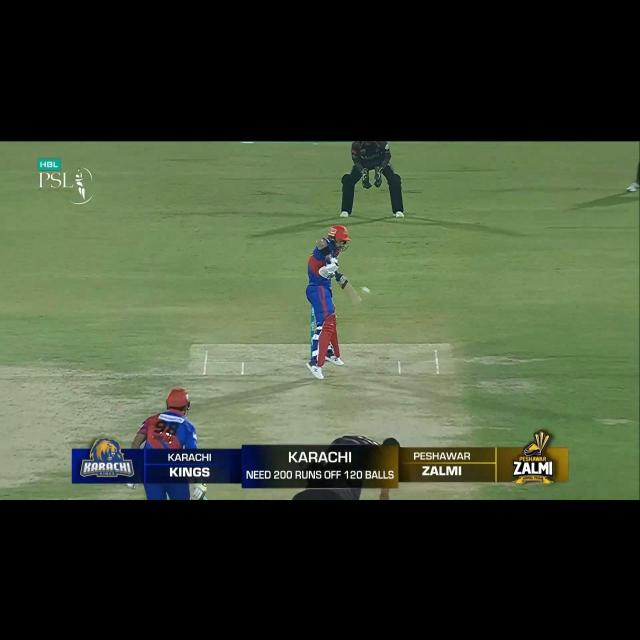bat: (336, 275, 364, 305)
toe: (353, 296, 363, 306)
